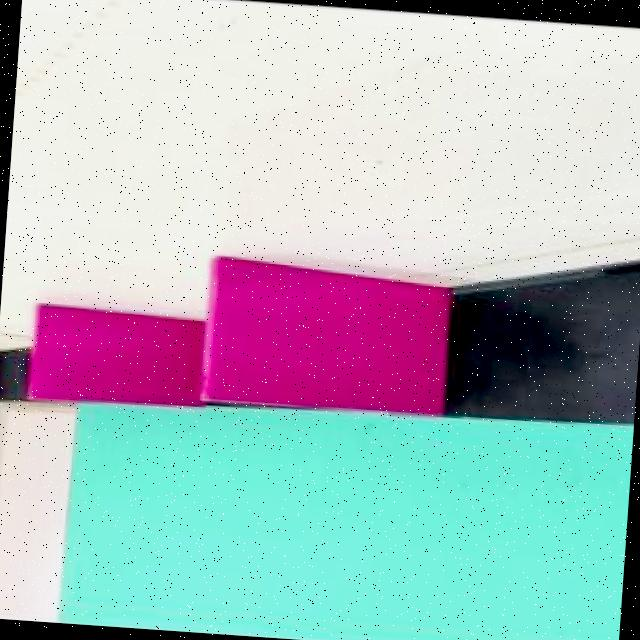xparking: (204, 268, 448, 418), (26, 308, 198, 411)
